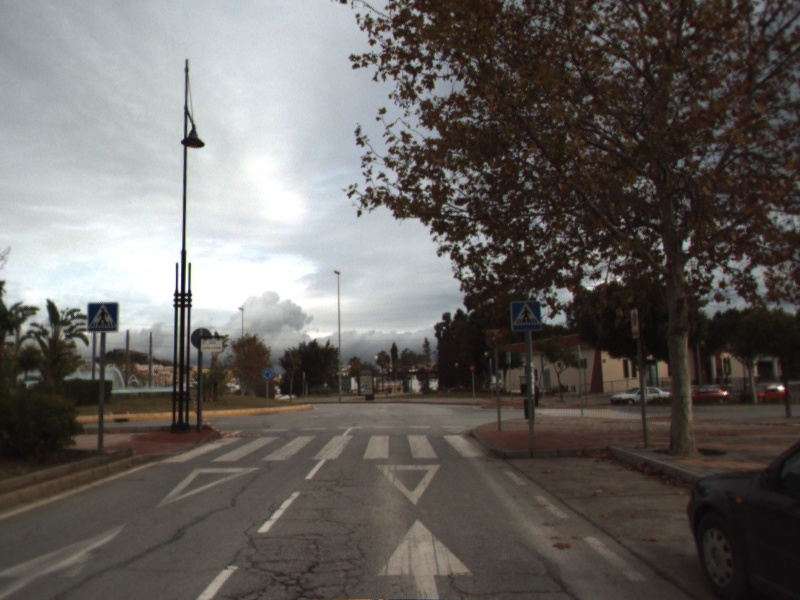STRAIGHT: (1, 519, 131, 600), (373, 514, 476, 600)
